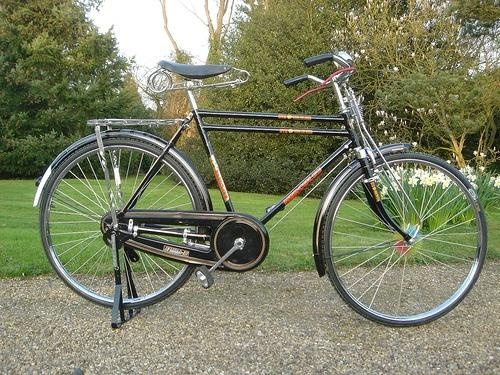bicycle: (30, 51, 488, 331)
